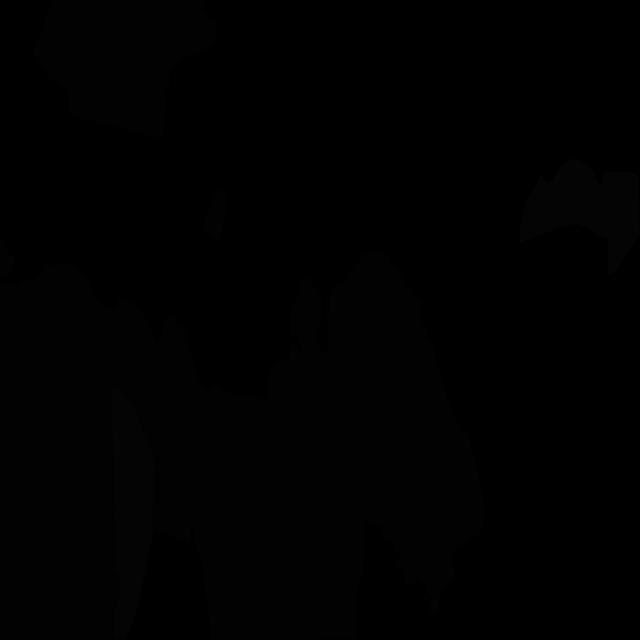cardboard: (266, 252, 485, 615), (161, 335, 365, 640), (0, 263, 120, 640), (32, 0, 217, 138), (109, 296, 191, 543), (202, 189, 226, 244), (0, 239, 16, 279)
soft_plastic: (519, 159, 640, 274), (110, 387, 156, 640)
